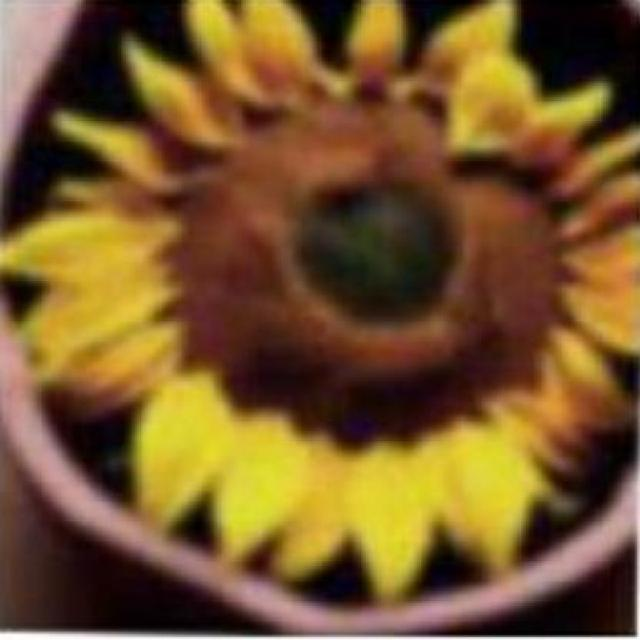sunflower: (12, 0, 640, 597)
